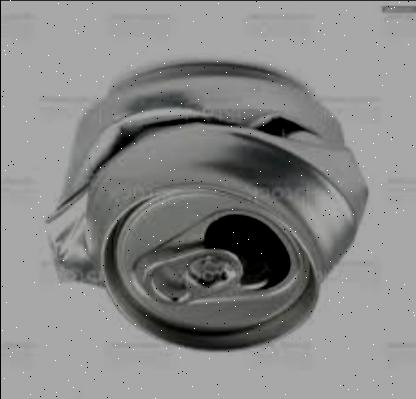Can: (38, 58, 372, 356)
